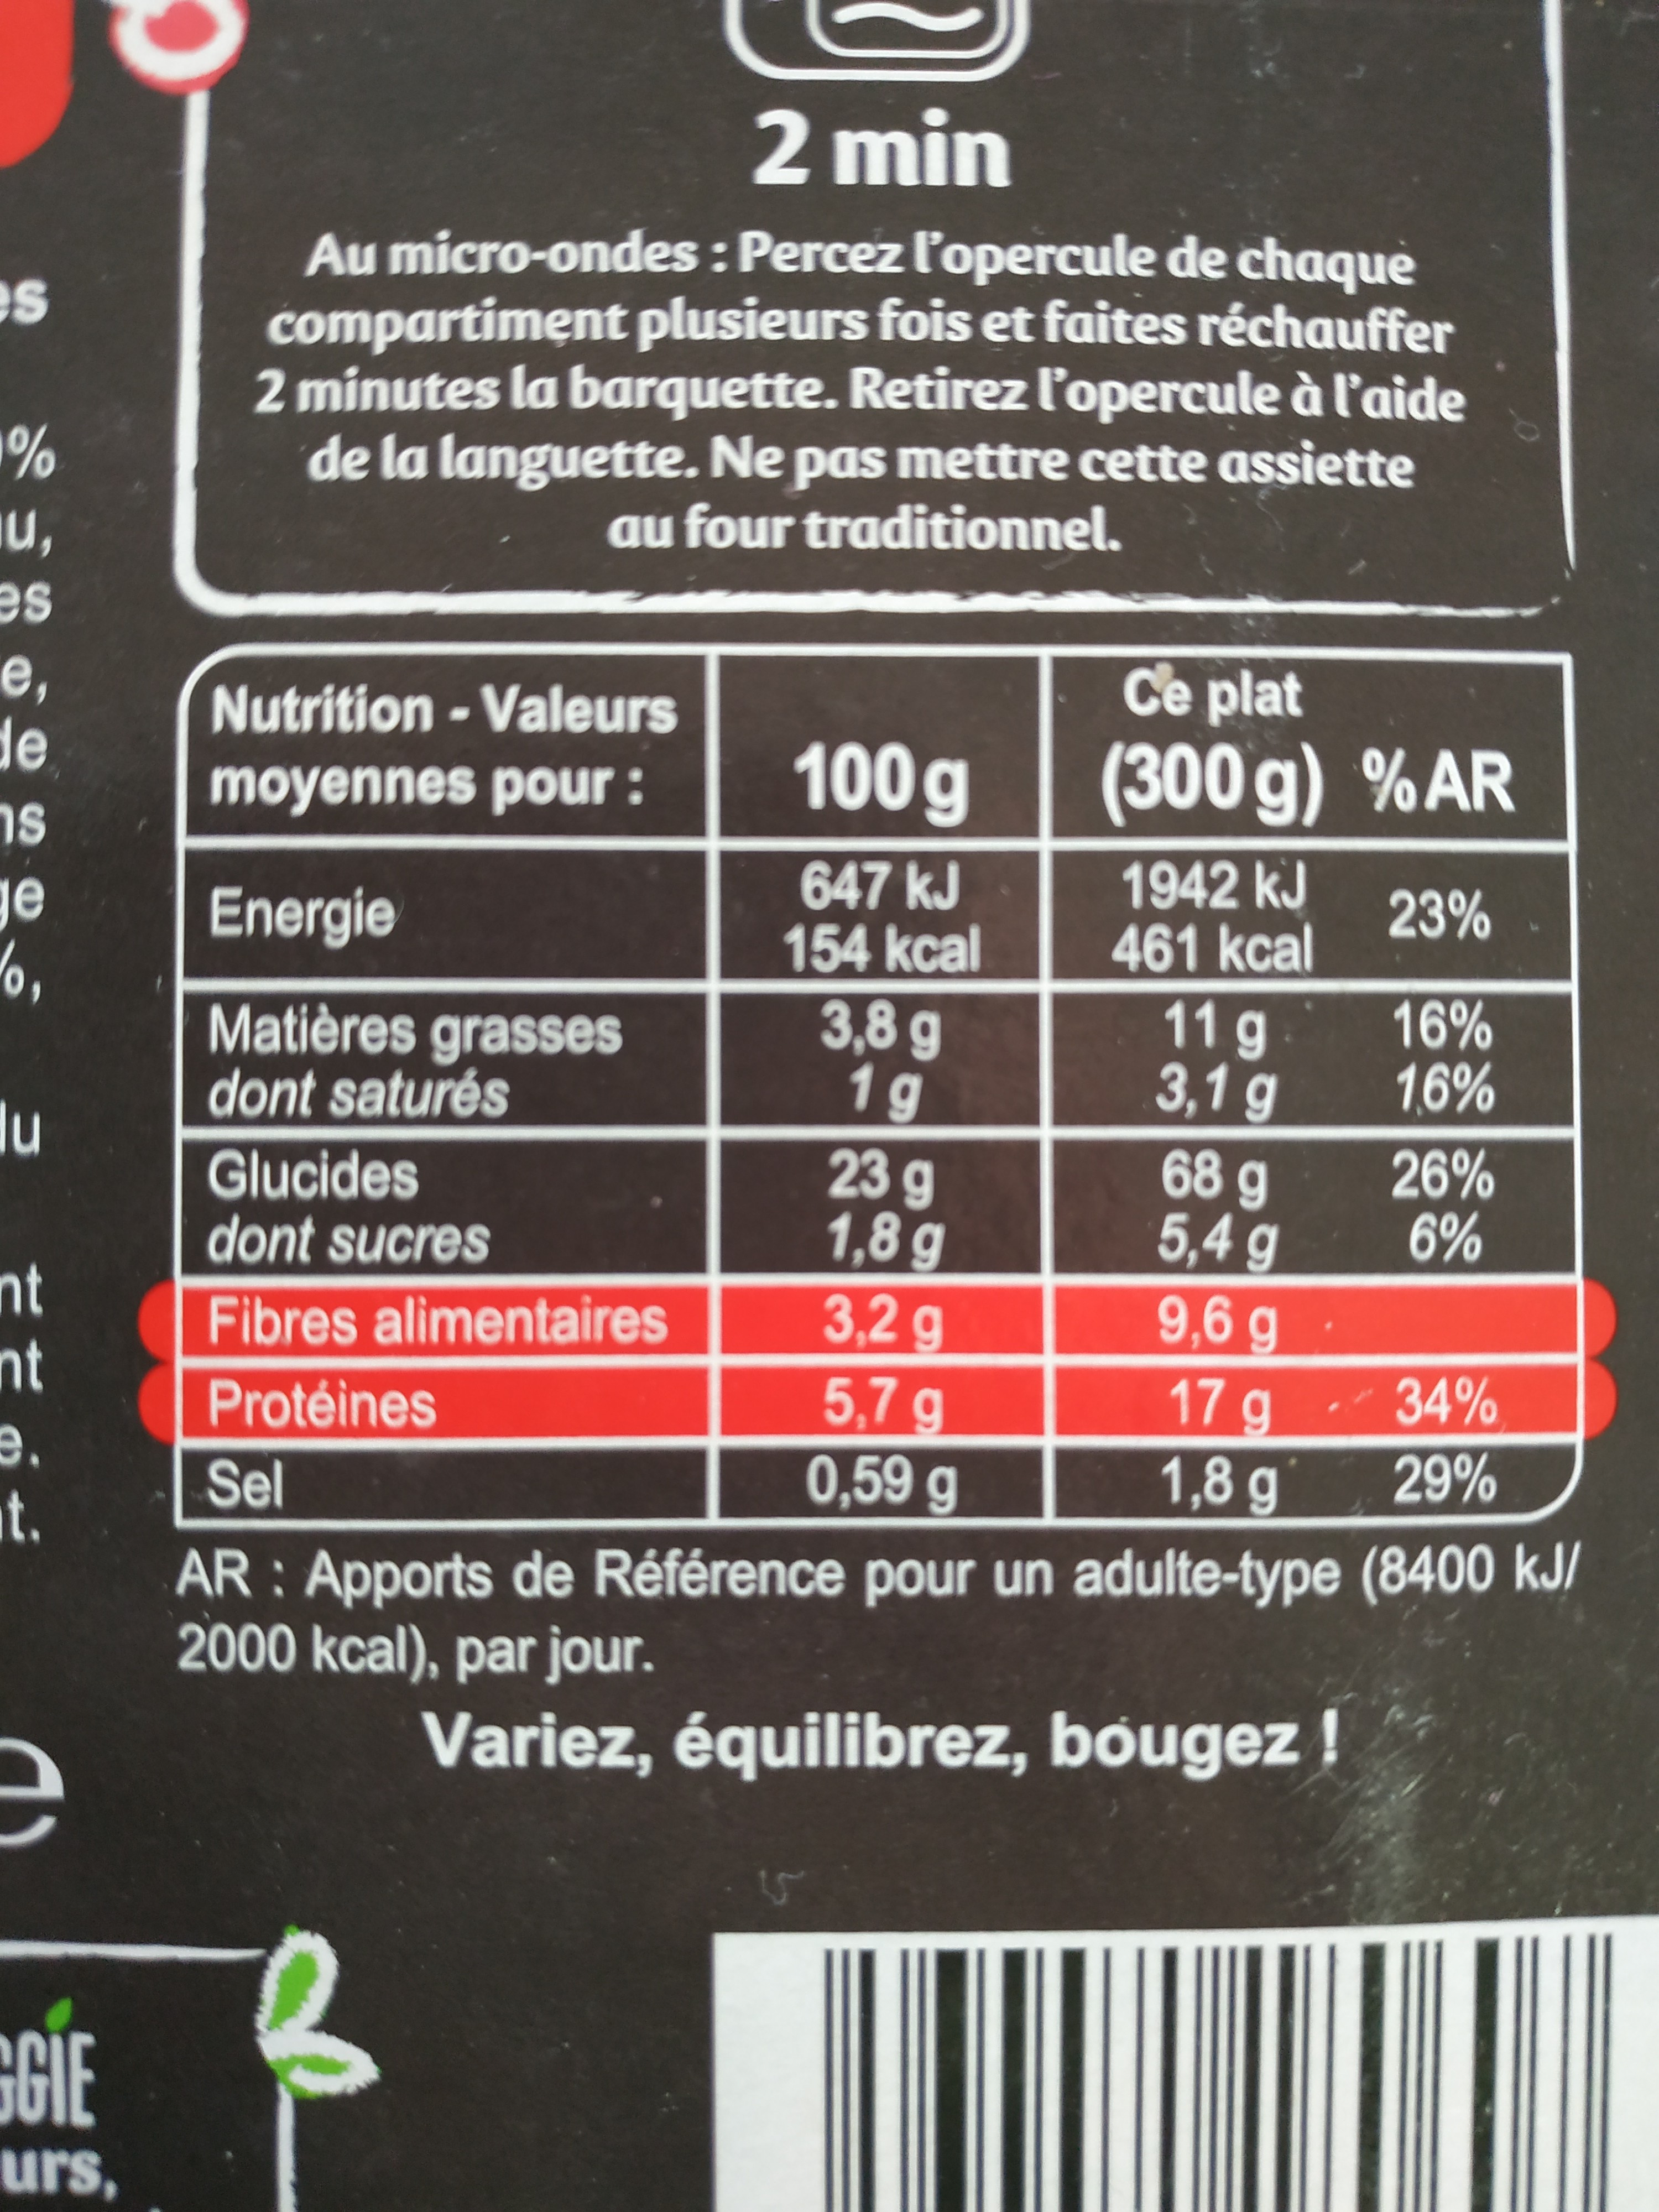column: (206, 655, 678, 1505), (1098, 665, 1324, 1512), (789, 676, 976, 1508), (1349, 669, 1527, 1508)
table: (157, 641, 1584, 1536)
